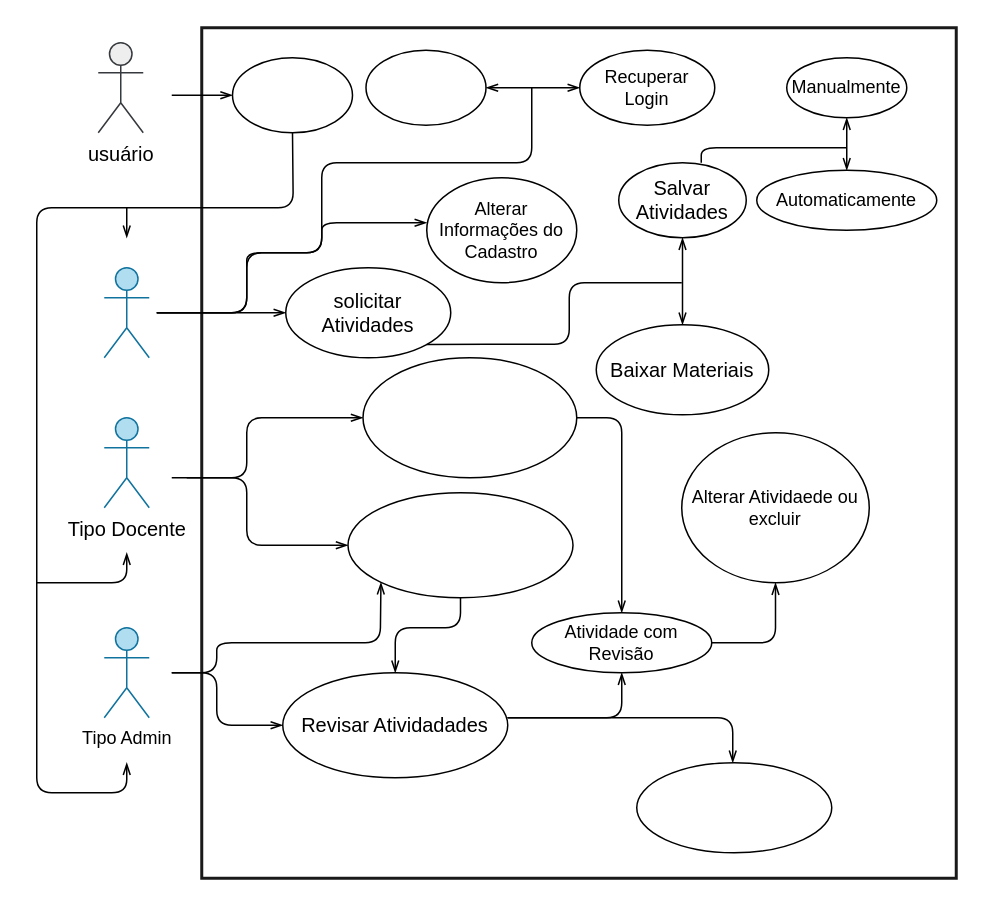
The diagram is 984 pixels wide and 905 high, and some of its shapes have lost their labels. The shapes that lost their labels are listed below. From the top down, each one's centre as x and y in pixels, then its label:
At point 291,94: "Criar um Login".
At point 425,87: "Fazer Login".
At point 126,312: "Tipo base".
At point 469,417: "Requisitar Materiais Cadastados por ele mesmo".
At point 459,544: "Cadastrar Materiais de Apoio ou Atividades".
At point 733,807: "Atividade impróprias".
